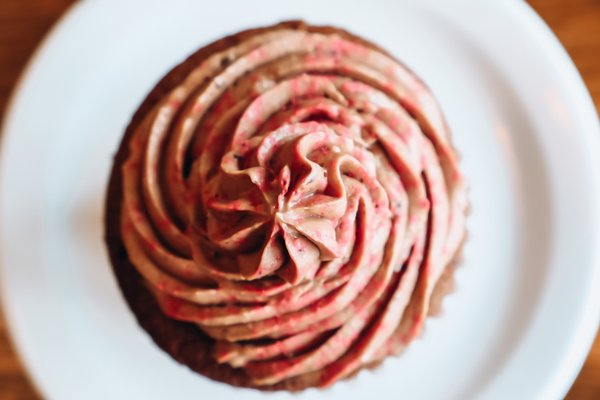sushi: (99, 18, 475, 389)
